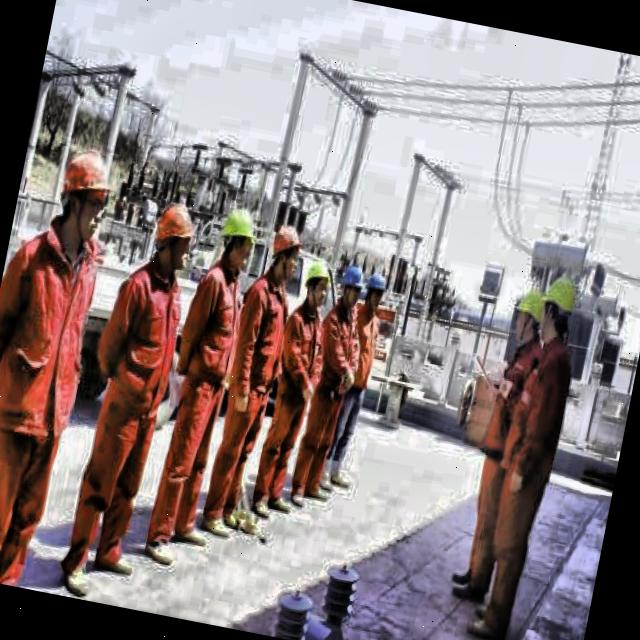helmet: (49, 138, 122, 252), (146, 196, 203, 280), (212, 199, 264, 280), (502, 279, 550, 357), (264, 220, 309, 292), (537, 270, 583, 340), (302, 255, 338, 309), (335, 256, 370, 310), (359, 270, 389, 323)
